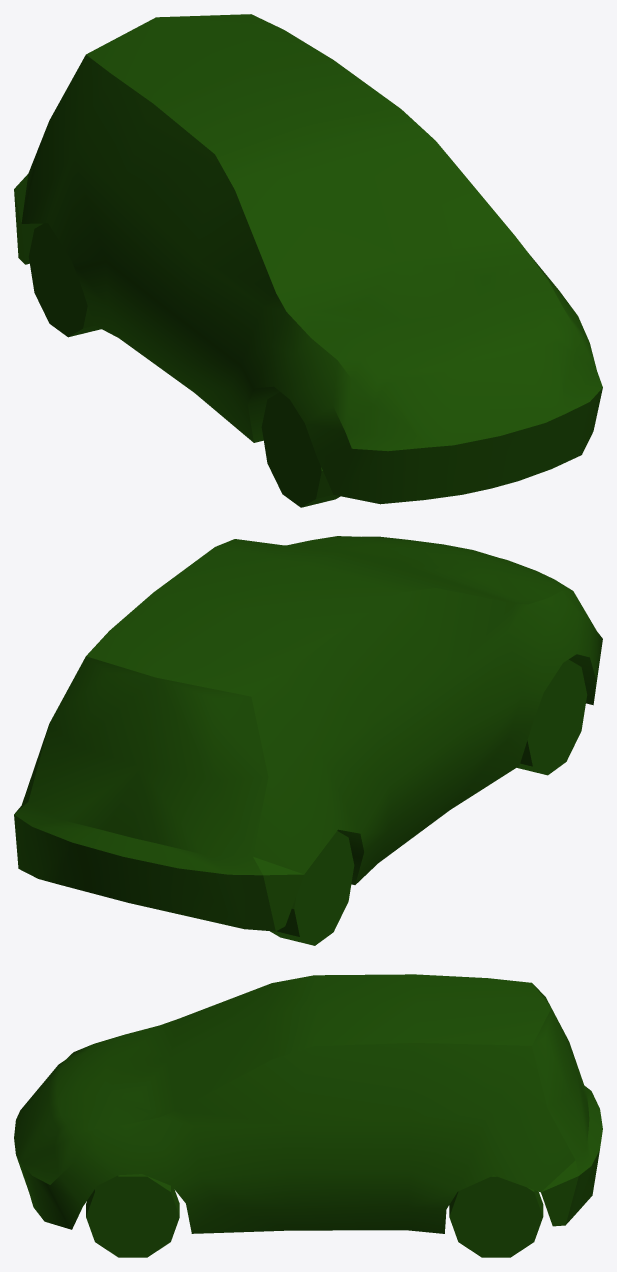
The model's file is Vehicle03A.fbx.
The picture shows the model from 3 angles, top to bottom: view 1: azimuth 30°, elevation 25°; view 2: azimuth 150°, elevation 25°; view 3: azimuth 270°, elevation 25°; orthographic projection. The views are drawn at different scales.
Visible parts, largest first — view 1: Vehicle03A; view 2: Vehicle03A; view 3: Vehicle03A.
Boxes of the visible parts, x1,y1,x2,y2 form: Vehicle03A: [14, 14, 602, 507]; Vehicle03A: [14, 536, 602, 945]; Vehicle03A: [14, 974, 602, 1257].
Bounding box in the file's own units: 1.7 × 1.46 × 3.84.
